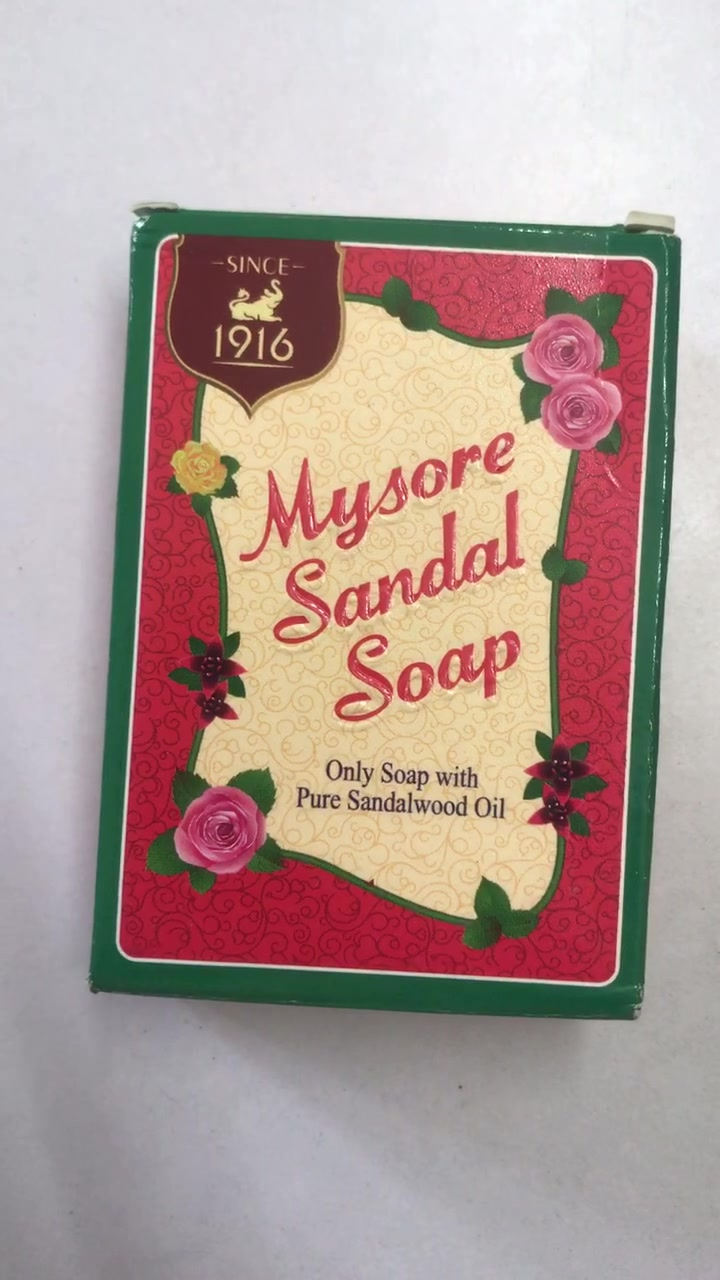mysore sandal soap: (105, 205, 659, 1023)
